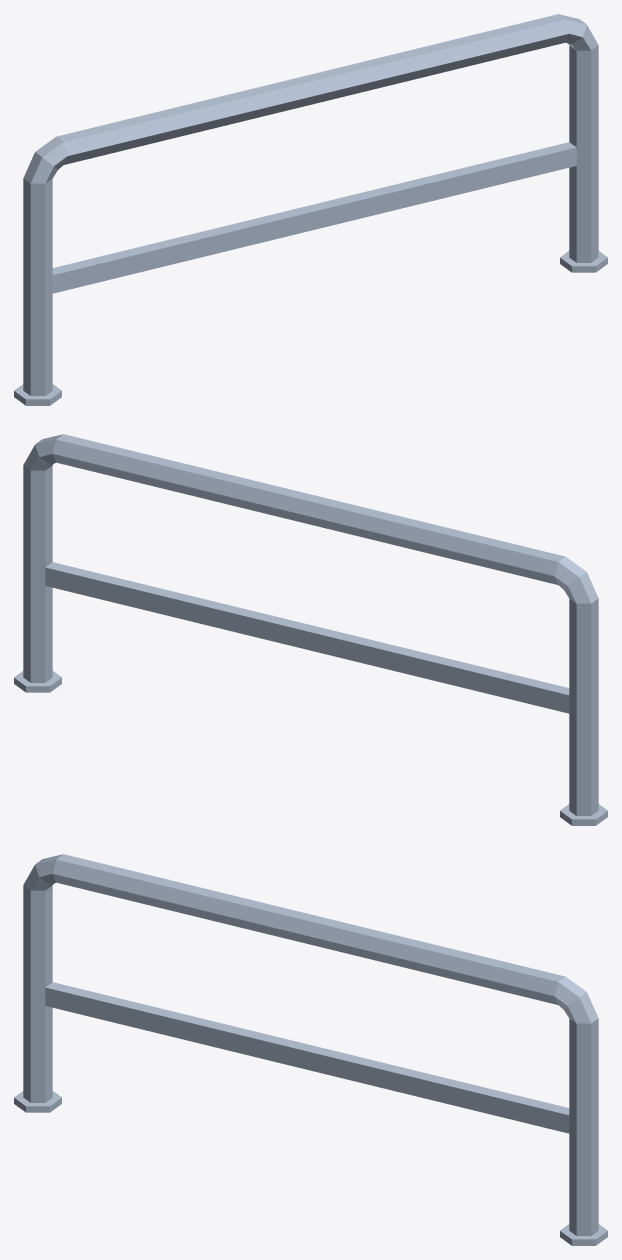
Rendered from Arena_fence_alone.fbx.
3 views of the same model, one above another, from view 1: azimuth 30°, elevation 25°; view 2: azimuth 150°, elevation 25°; view 3: azimuth 330°, elevation 25° (orthographic).
Parts seen in each view (by area): view 1: fence; view 2: fence; view 3: fence.
Part boxes in pixels (bbox=[...]): fence: bbox=[14, 14, 607, 405]; fence: bbox=[14, 434, 607, 825]; fence: bbox=[14, 854, 607, 1245].
Size of the model in its own units: 264 by 109 by 18.88.
